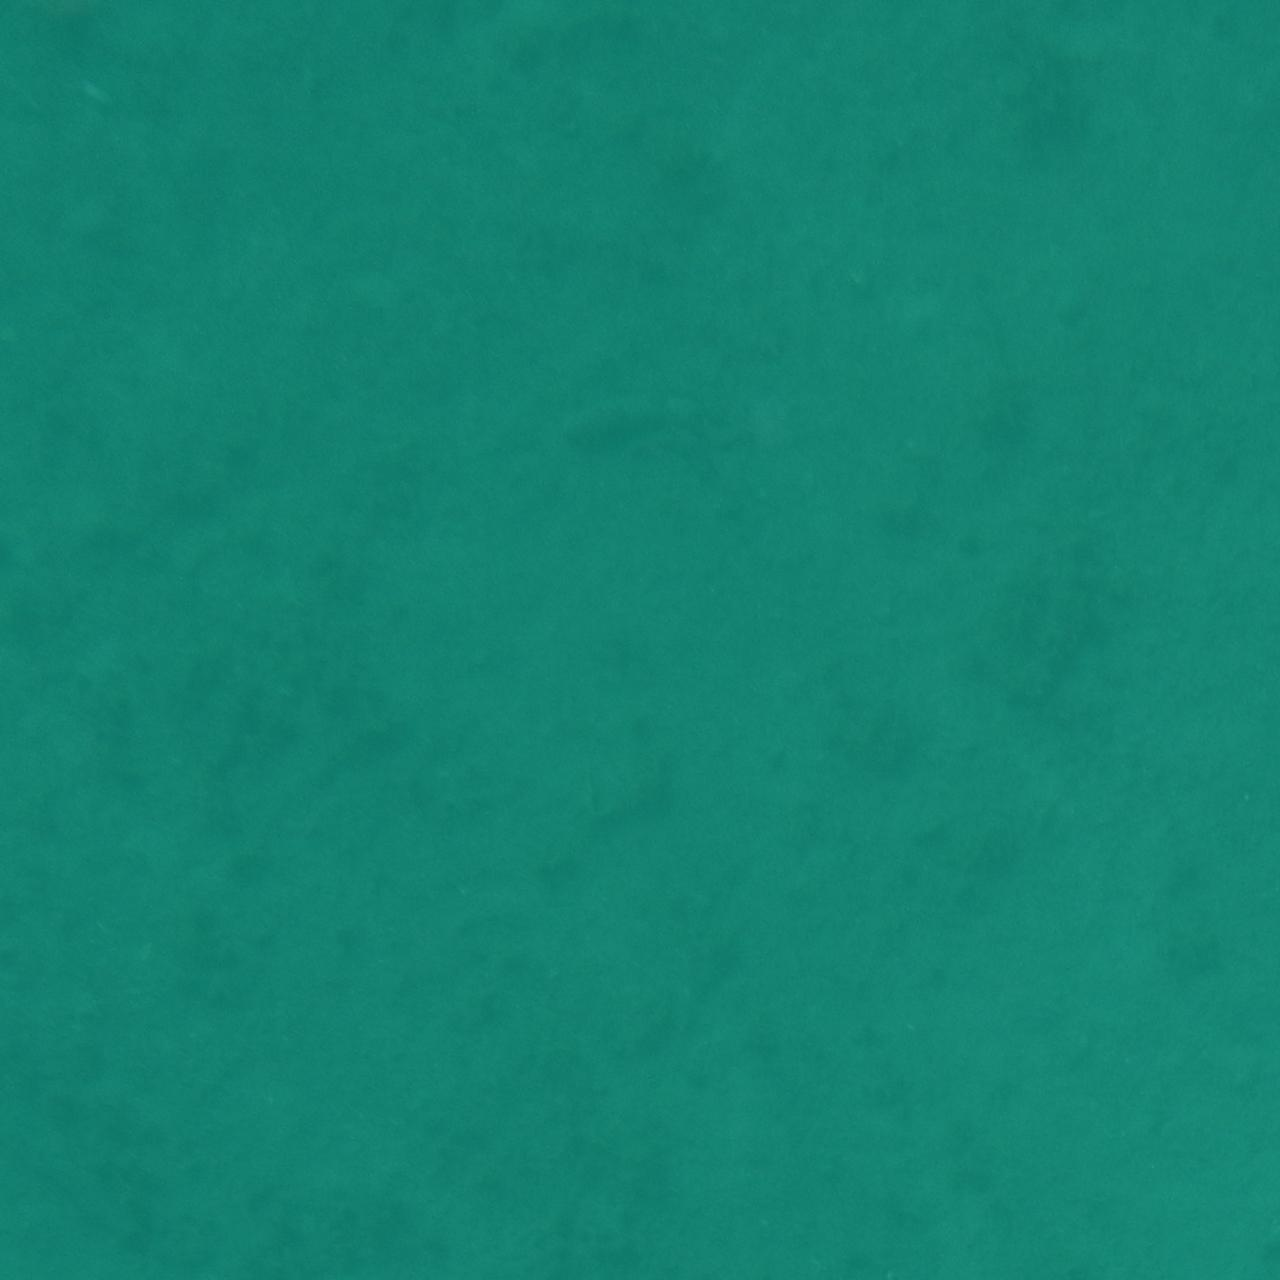Holothuria tubulosa: (531, 363, 749, 479)
